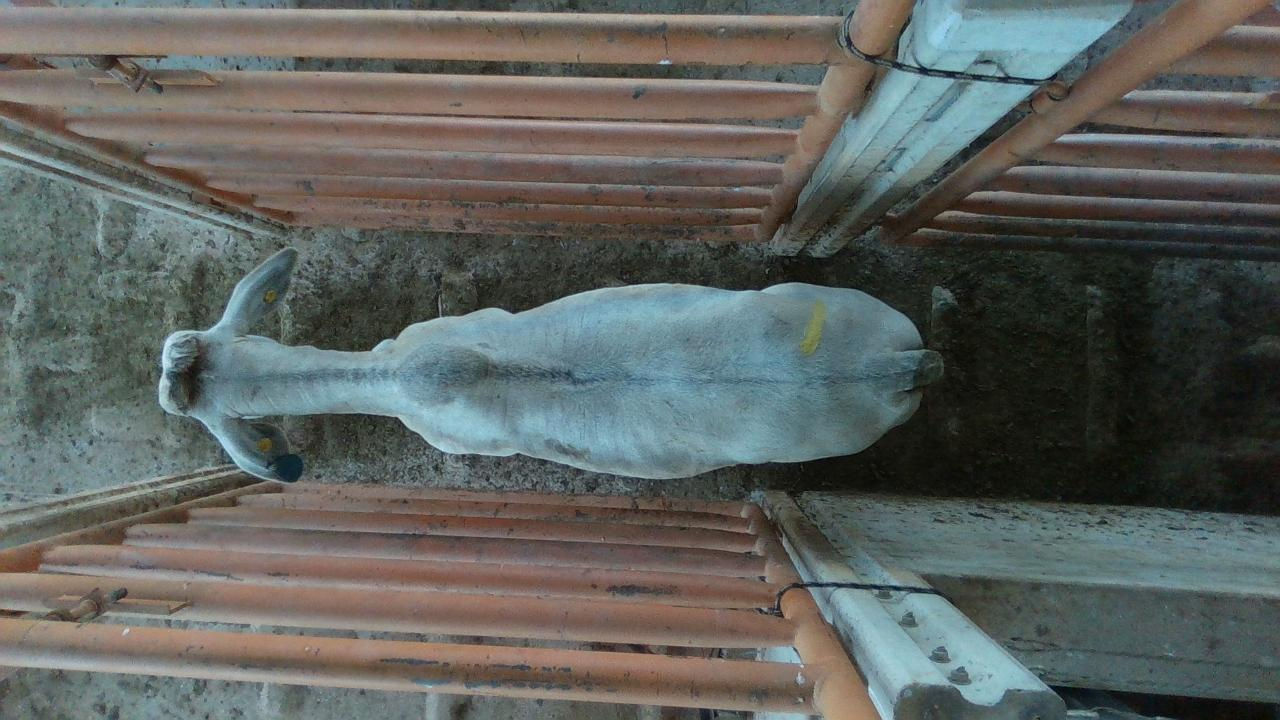cattle: (156, 246, 945, 483)
